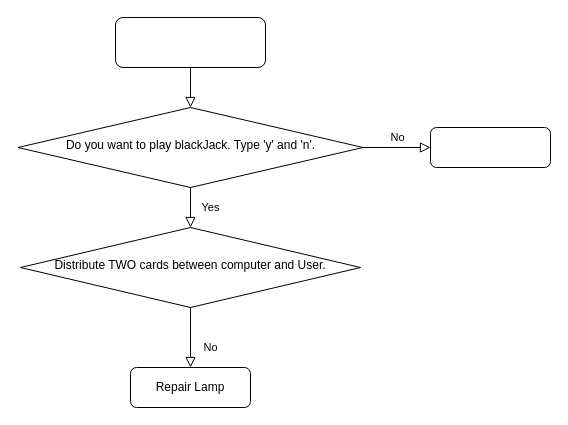
This 568x425 diagram has some shape labels left out. Each missing label, with the box of its shape:
Quit game: (430, 126, 550, 168)
Welcome to black Jack.: (114, 16, 266, 68)
